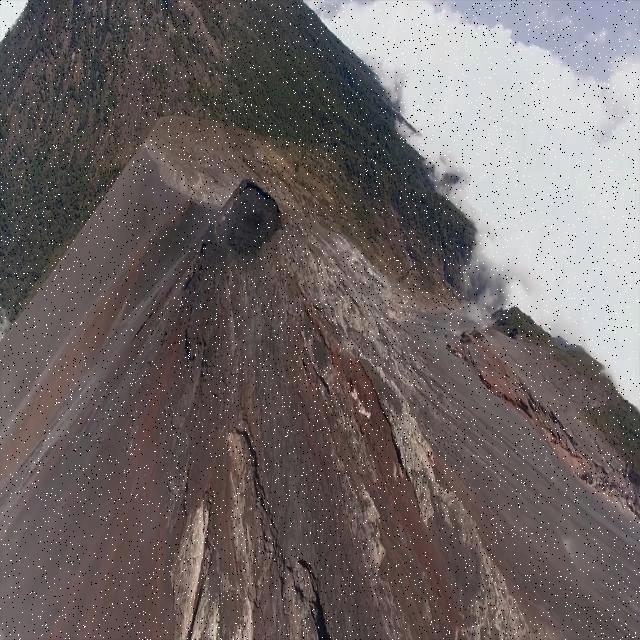Summit: (138, 159, 540, 640)
